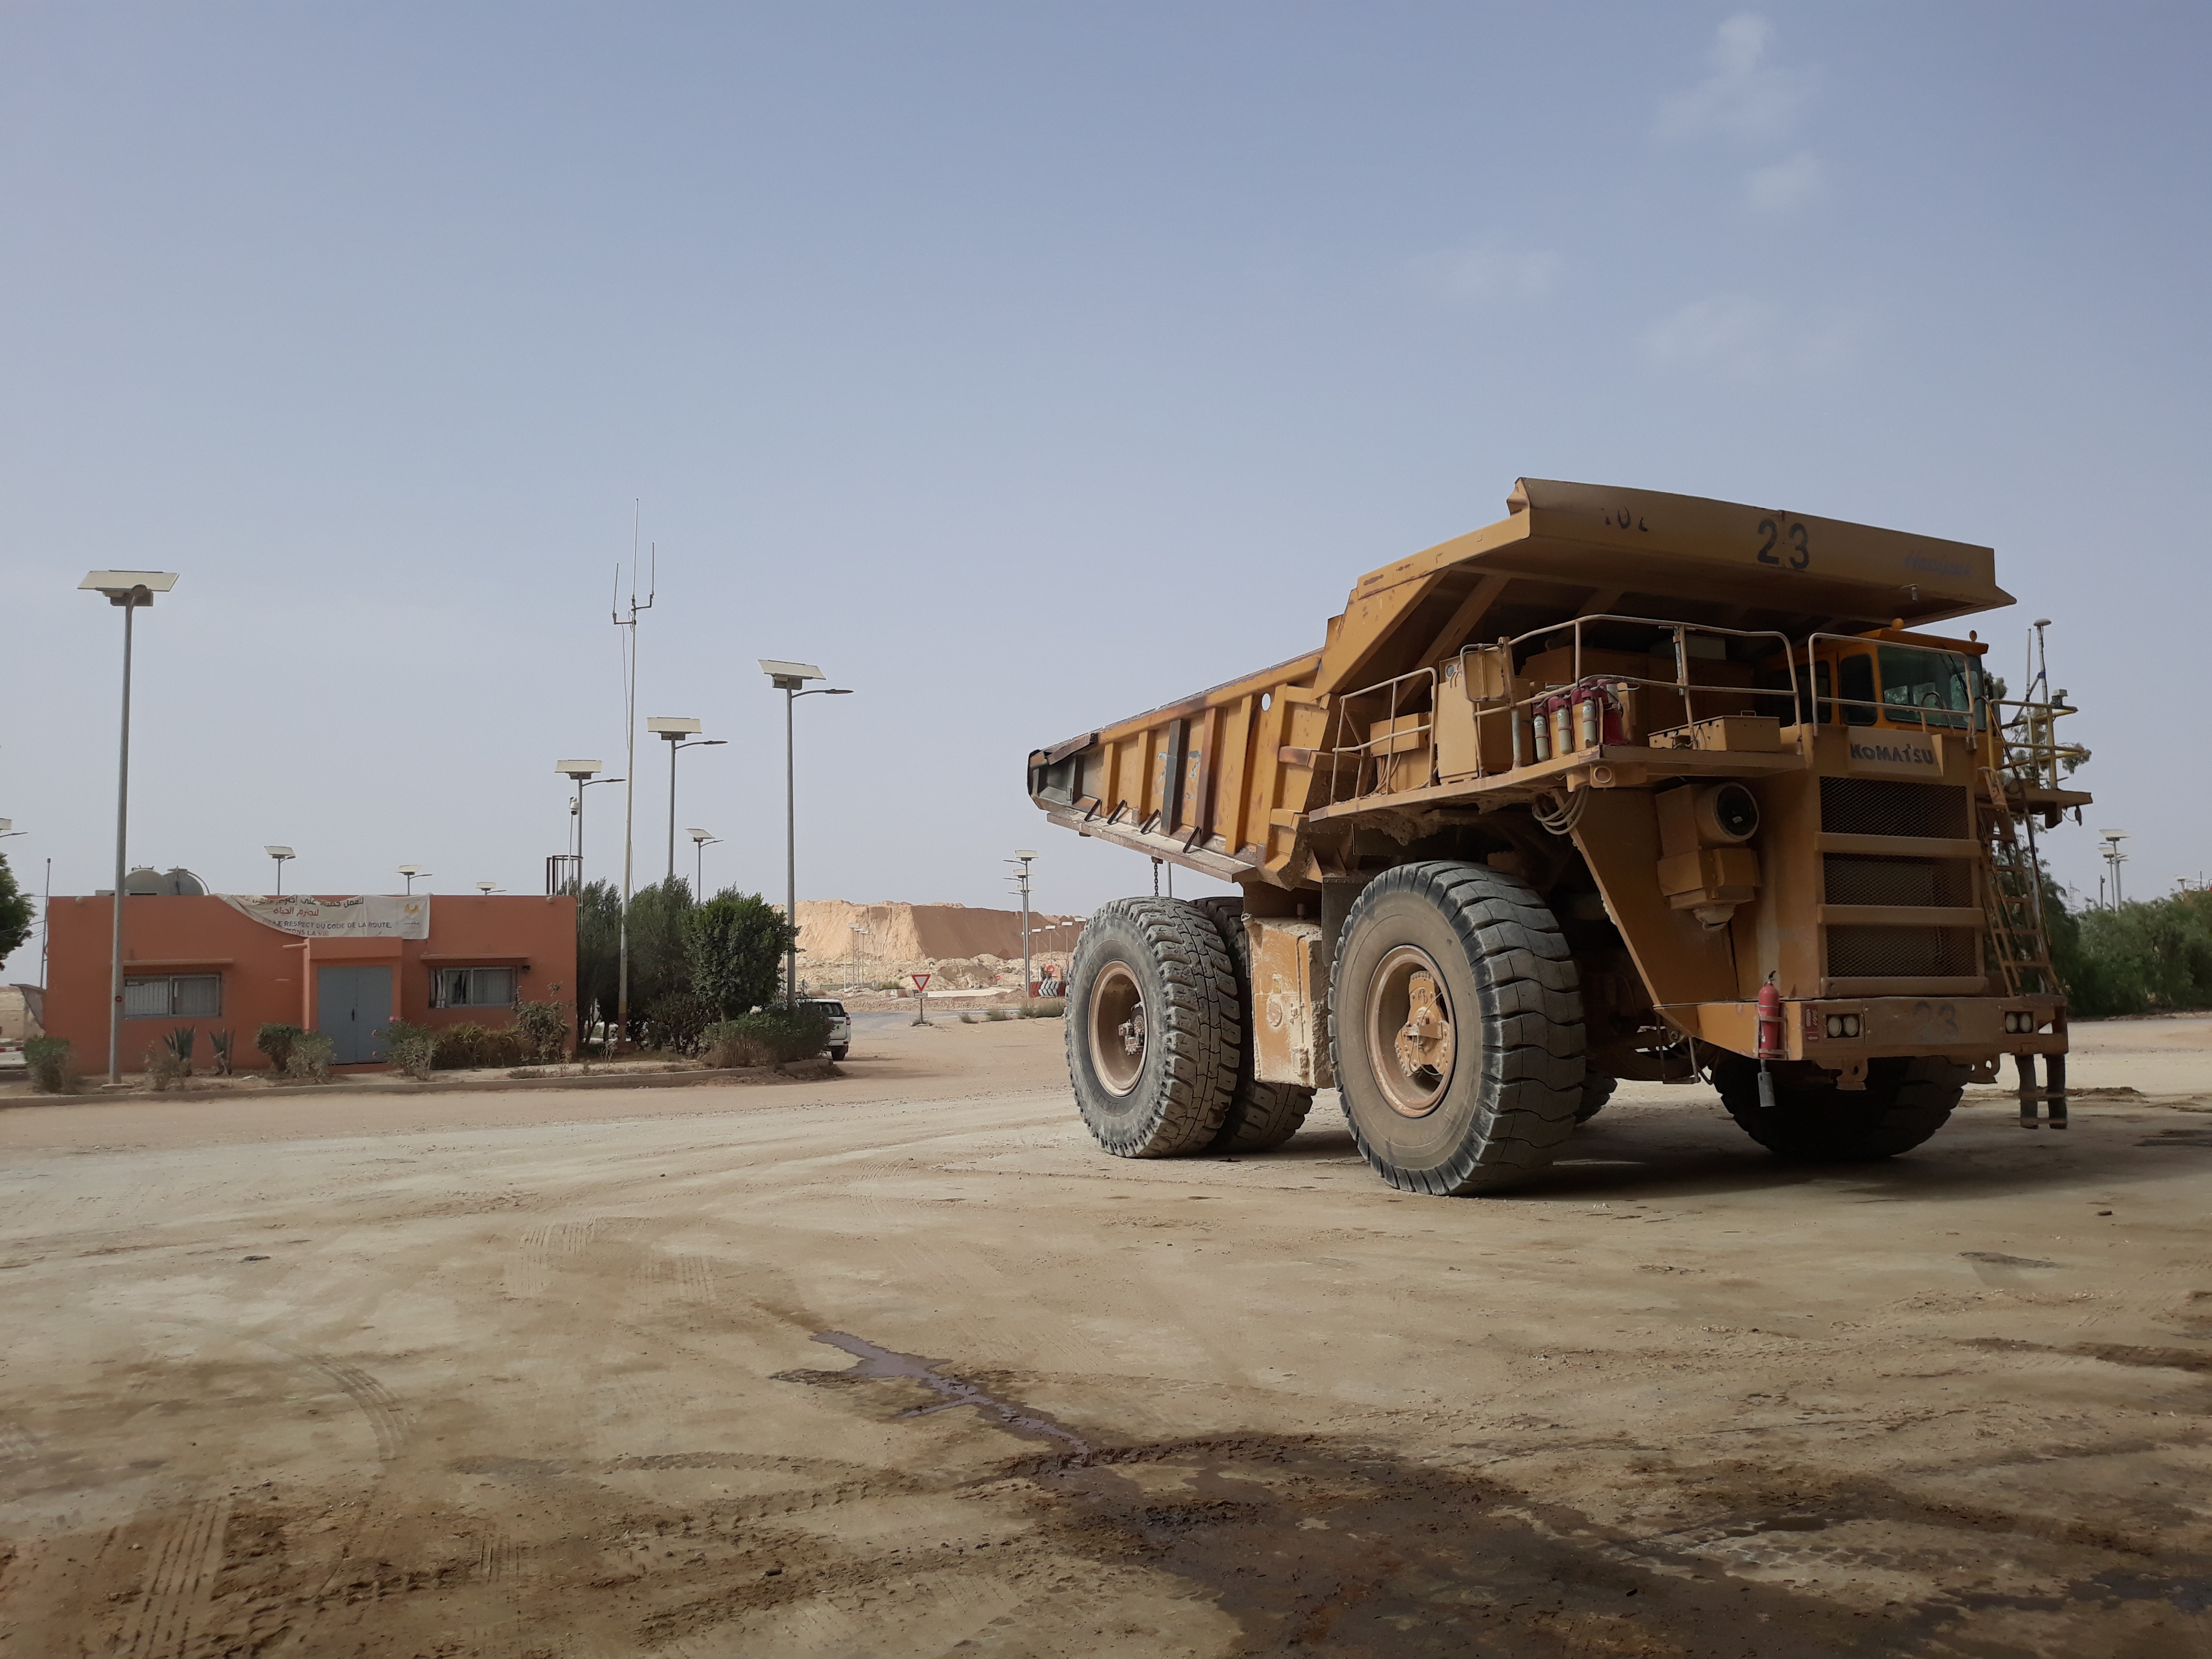camion: (1015, 457, 2099, 1213)
car: (777, 992, 864, 1079)
